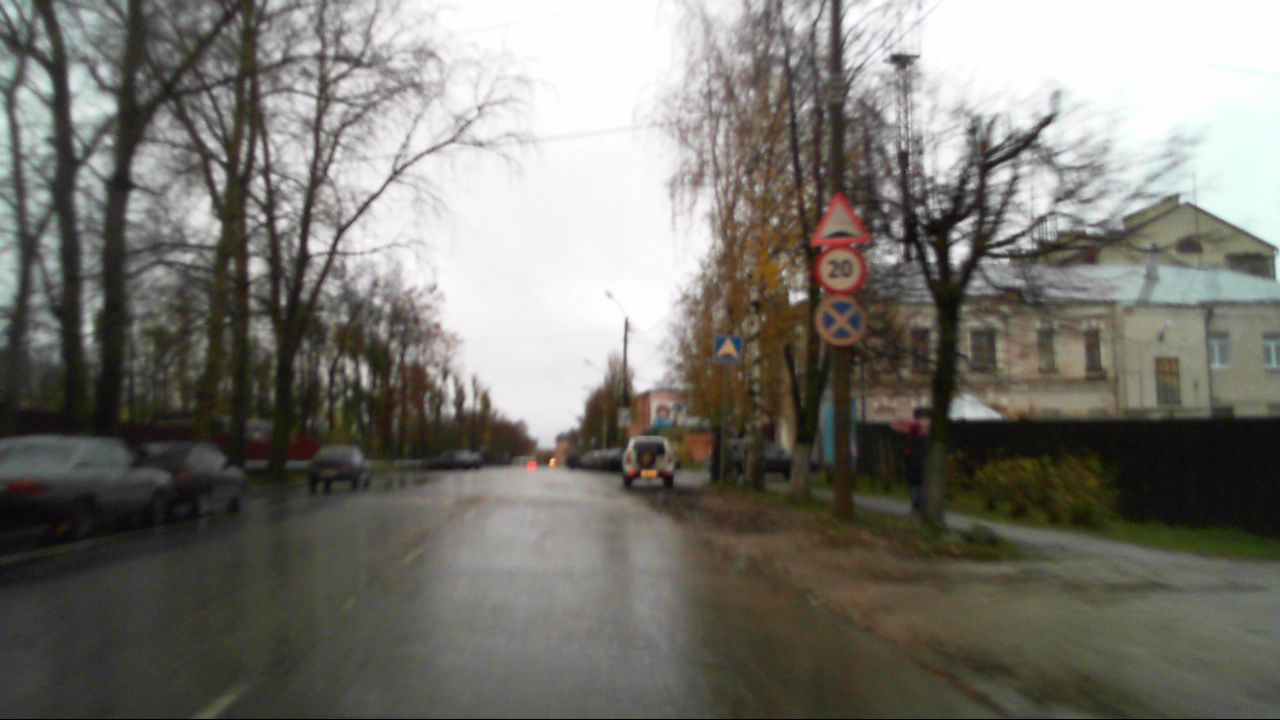No Parking: (815, 295, 867, 345)
